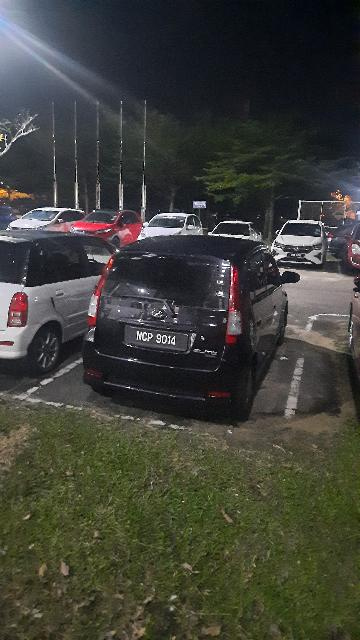License_Plate: (122, 324, 193, 354)
car: (82, 234, 303, 423), (2, 222, 129, 381)
